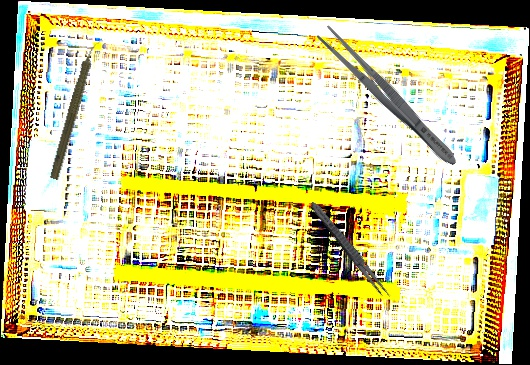Dressing Forceps: (313, 22, 464, 172), (306, 198, 394, 302)
Handpiece: (47, 35, 104, 182)
